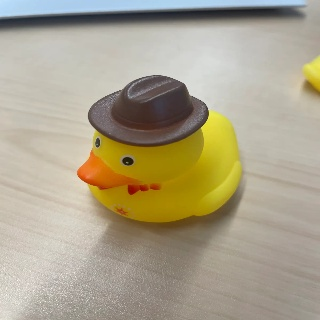duck_specialty: (76, 73, 242, 222)
